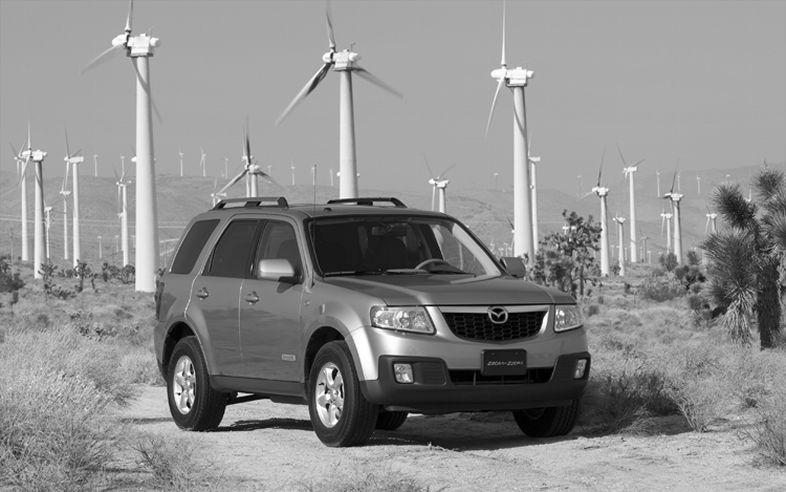car: (152, 195, 595, 446)
